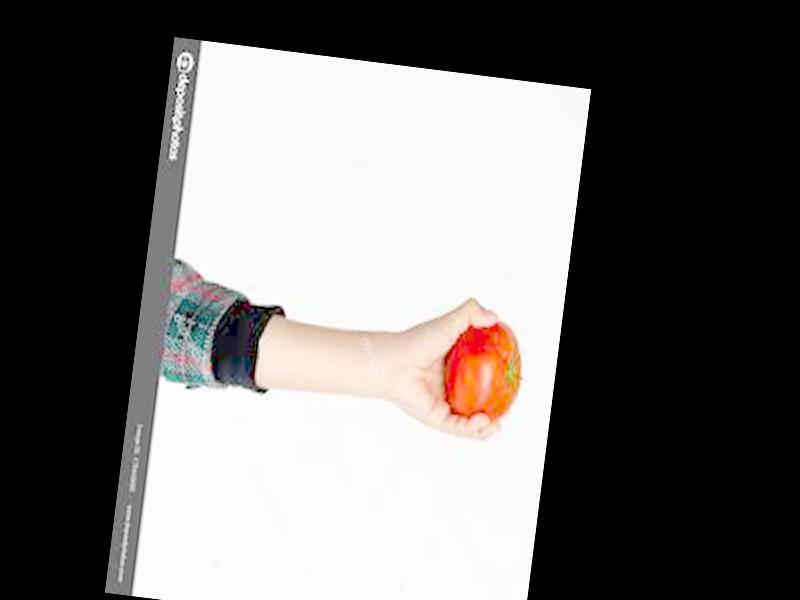Tomato: (438, 315, 530, 428)
